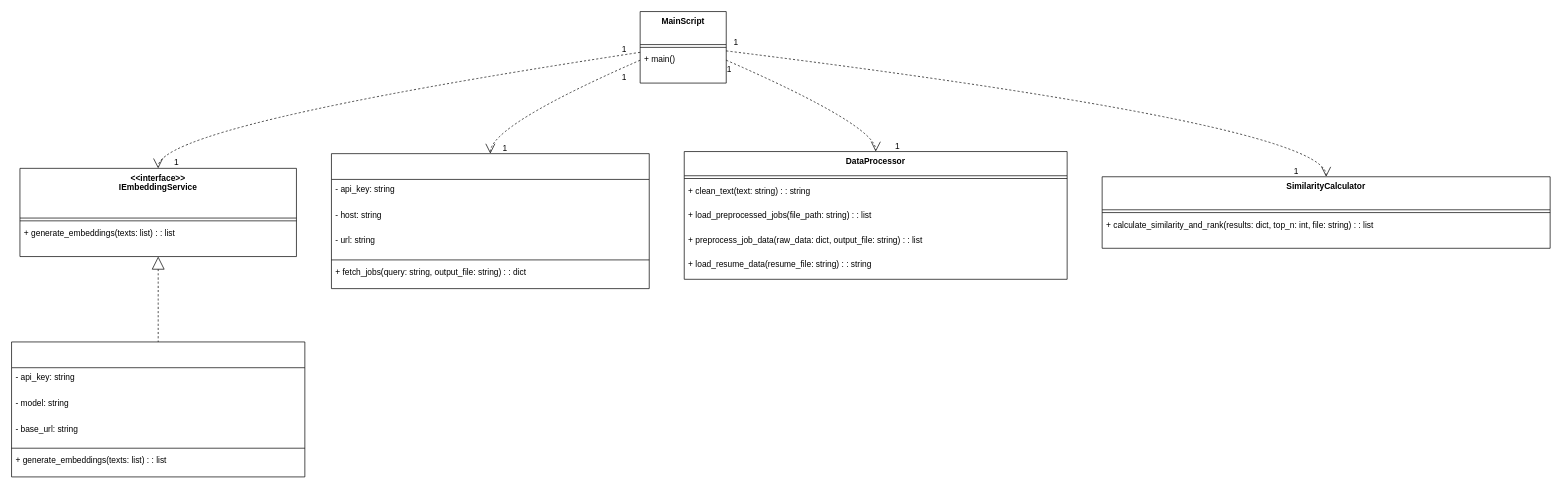
The diagram is 1562 pixels wide and 489 high, and some of its shapes have lost their labels. Here are the shapes that lost their labels. From the top down, the box of each, then its label:
(331, 153, 649, 289): JobFetcher
(11, 341, 305, 477): GeminiEmbeddingService
